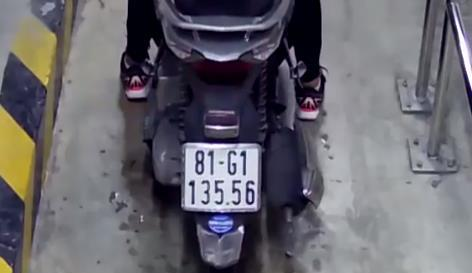lisence: (181, 145, 261, 212)
